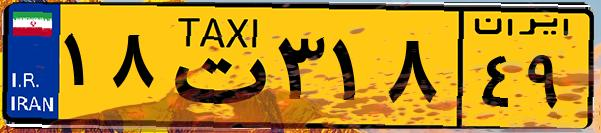1: (330, 28, 385, 110), (57, 26, 110, 100)
3: (270, 28, 330, 110)
4: (475, 38, 525, 113)
8: (385, 28, 445, 110), (110, 28, 158, 98)
9: (525, 38, 570, 115)
ت: (158, 12, 270, 120)
